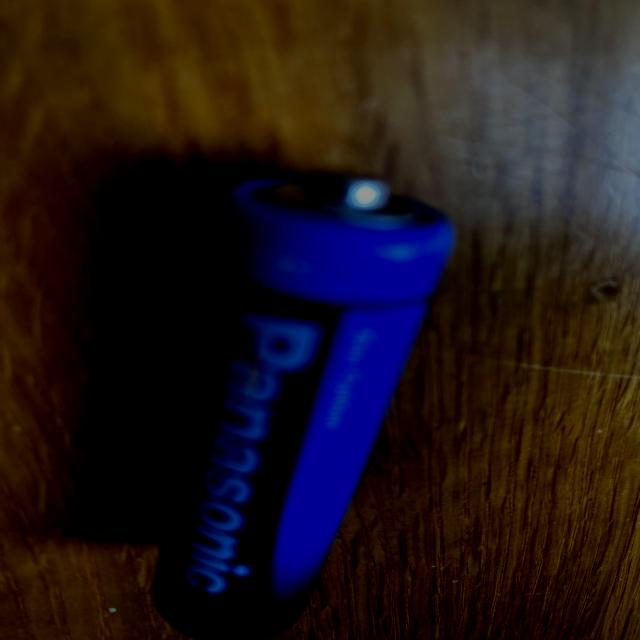AA: (155, 172, 456, 638)
